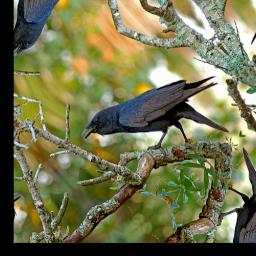Crow: (76, 37, 252, 208)
